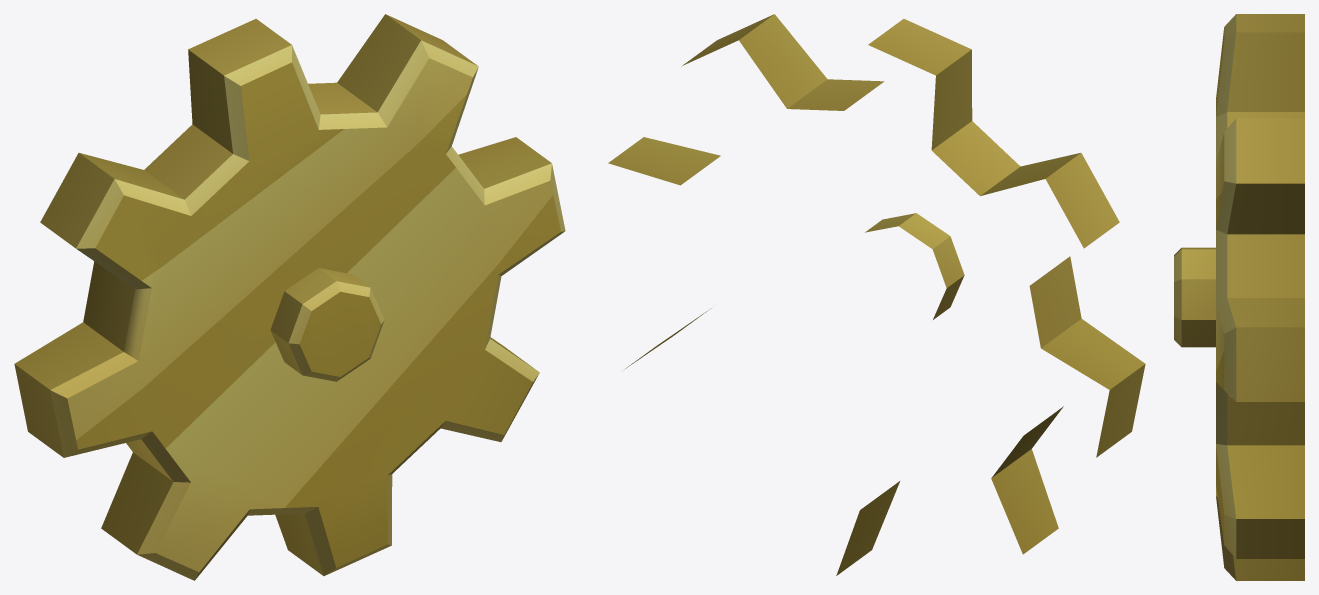
The model's file is GarysLabGear.glb.
The picture shows the model from 3 angles, left to right: view 1: azimuth 30°, elevation 25°; view 2: azimuth 150°, elevation 25°; view 3: azimuth 270°, elevation 25°; orthographic projection. The views are drawn at different scales.
Visible parts, largest first — view 1: GarysLabGear; view 2: GarysLabGear; view 3: GarysLabGear.
Boxes of the visible parts, x1=… form: GarysLabGear: x1=14, y1=14, x2=565, y2=580; GarysLabGear: x1=608, y1=14, x2=1145, y2=575; GarysLabGear: x1=1174, y1=14, x2=1304, y2=580.
Bounding box in the file's own units: 1.62 × 1.62 × 0.3718.
